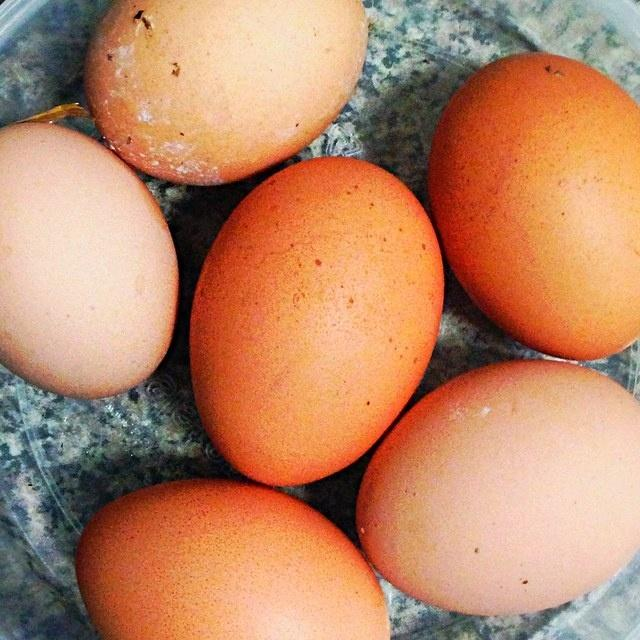egg: (188, 155, 445, 486), (355, 358, 640, 617), (427, 50, 640, 360), (83, 0, 368, 185), (74, 476, 390, 640), (0, 120, 179, 399)
